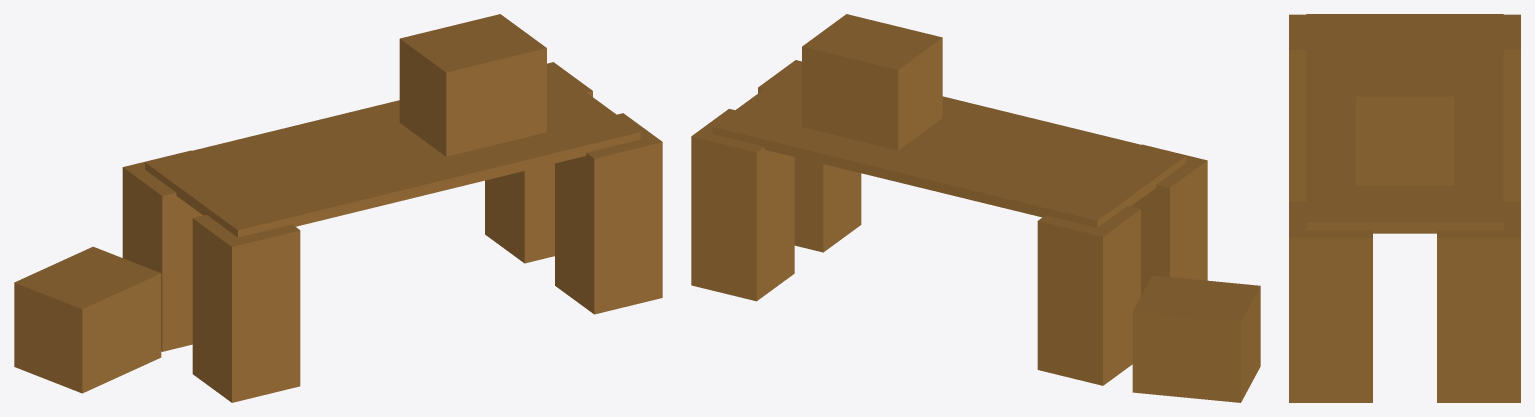
File: SM_CocinaCampana_v4_Recogida_LOD1.fbx
3 renders of one model, left to right at view 1: azimuth 30°, elevation 25°; view 2: azimuth 150°, elevation 25°; view 3: azimuth 270°, elevation 25°, orthographic. The views are drawn at different scales.
Visible parts, largest first — view 1: SM_vida_fuerte_v24_LOD1; view 2: SM_vida_fuerte_v24_LOD1; view 3: SM_vida_fuerte_v24_LOD1.
Boxes of the visible parts, x1,y1,x2,y2 form: SM_vida_fuerte_v24_LOD1: (14, 14, 662, 402); SM_vida_fuerte_v24_LOD1: (691, 14, 1260, 402); SM_vida_fuerte_v24_LOD1: (1289, 14, 1520, 402).
Size of the model in its own units: 2.77 by 1.18 by 0.94.
